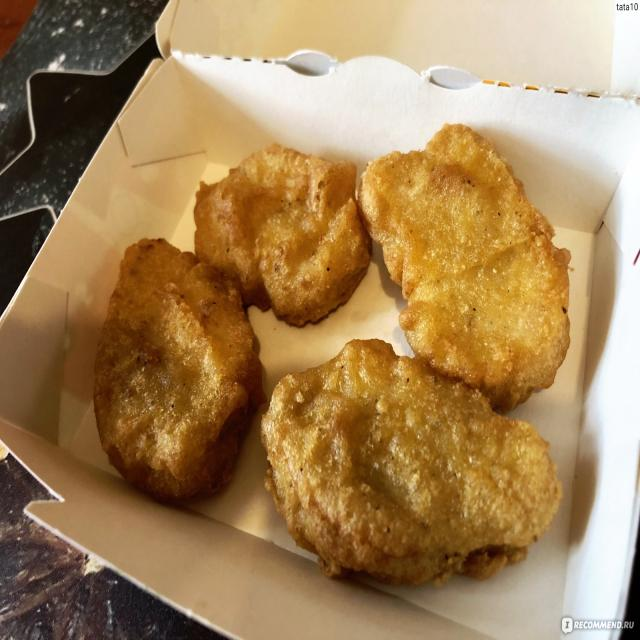chicken_nuggets: (243, 322, 574, 592), (350, 96, 598, 411), (90, 214, 262, 520), (186, 96, 380, 333)
